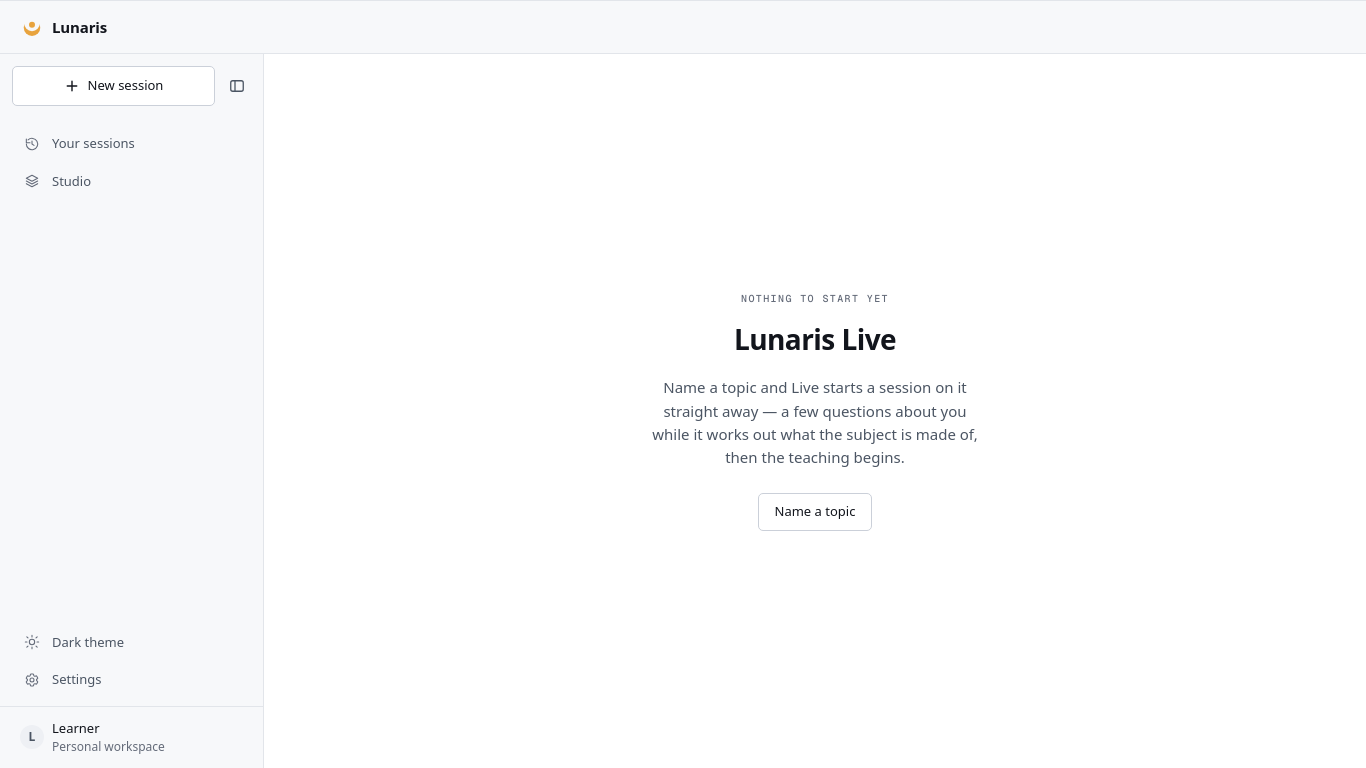
Test case: App — the Live route-space › gives Live's empty state a way onward rather than a dead end
Step 1. Click the link "Name a topic" → (815, 512), box [758,493,872,531]
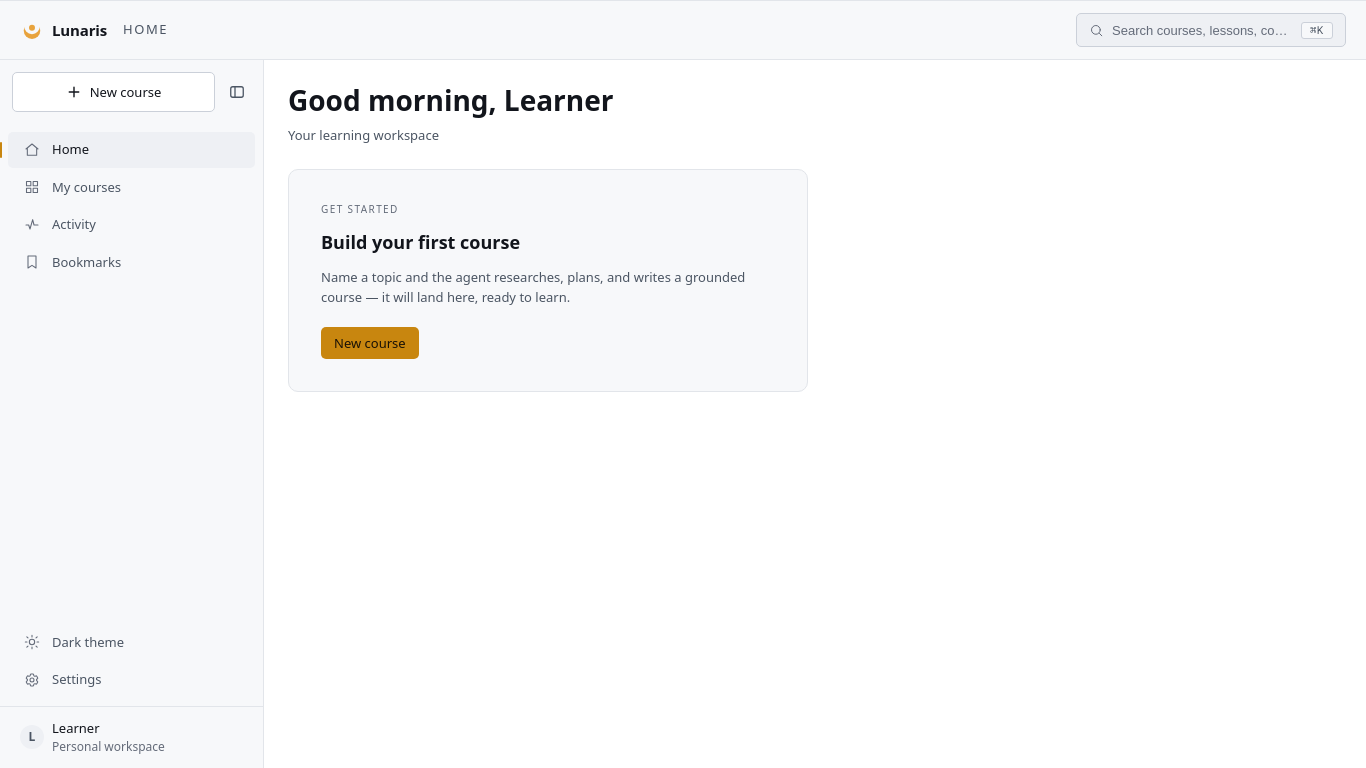
Expected: the heading "Lunaris Live" is gone
